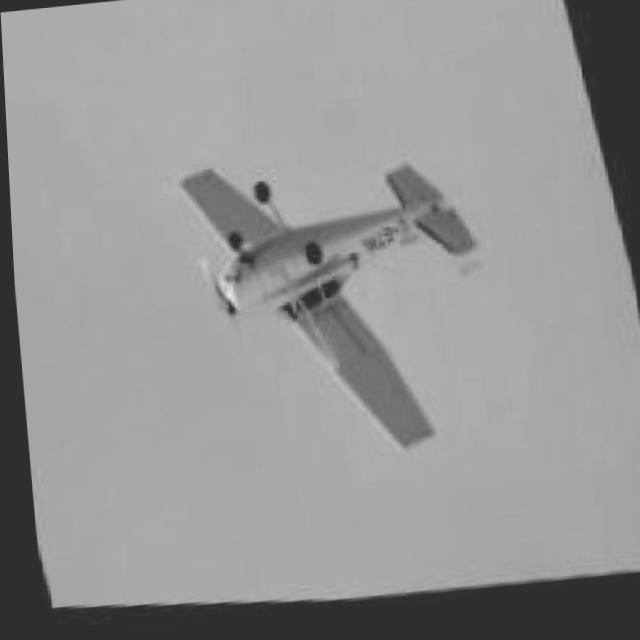aeroplane: (178, 130, 534, 499)
